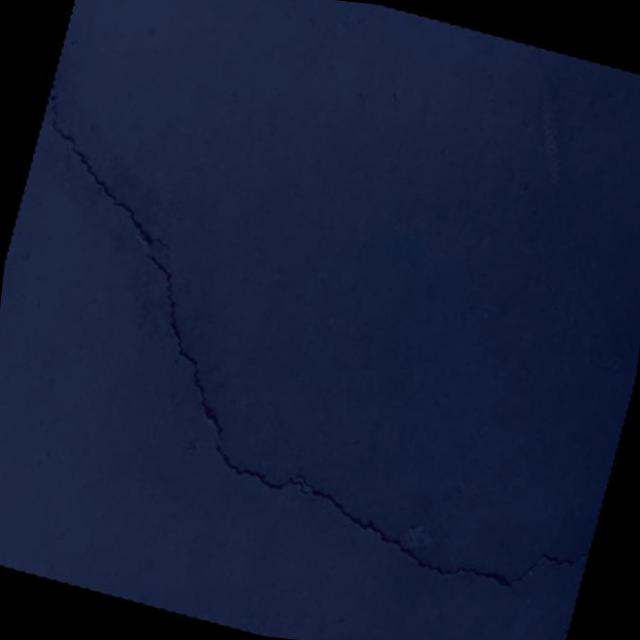crack: (77, 247, 640, 614), (12, 75, 210, 266)
